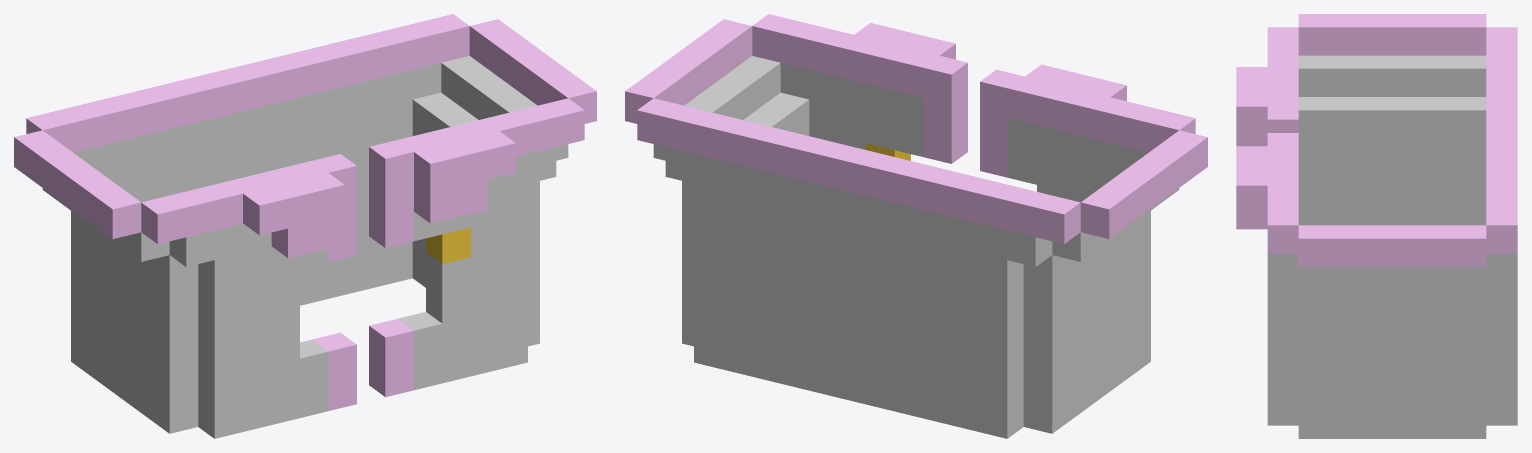
Rendered from accessories_clothes_disco.glb.
3 renders of one model, left to right at view 1: azimuth 30°, elevation 25°; view 2: azimuth 150°, elevation 25°; view 3: azimuth 270°, elevation 25°, orthographic. The views are drawn at different scales.
Parts seen in each view (by area): view 1: model_0; view 2: model_0; view 3: model_0.
Boxes of the visible parts, left/top/right/bottom form: model_0: left=14, top=14, right=596, bottom=438; model_0: left=625, top=14, right=1207, bottom=438; model_0: left=1236, top=14, right=1517, bottom=438.
Bounding box in the file's own units: 17 × 8 × 9.
